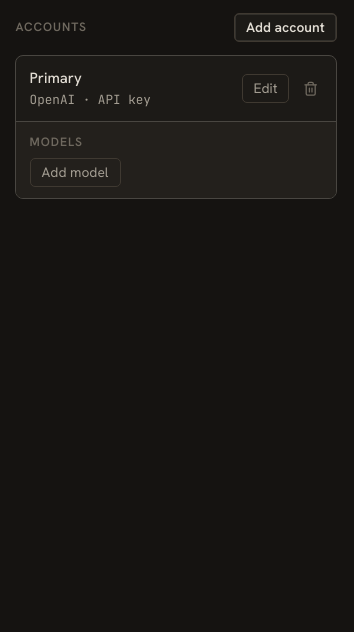
Scenario: Global Key manager › keeps the draft after a second conflict without another retry (F0395)
The image size is (354, 632).
Click the button with aria-label "Edit Primary" at point(265, 89), box [242, 74, 289, 103]
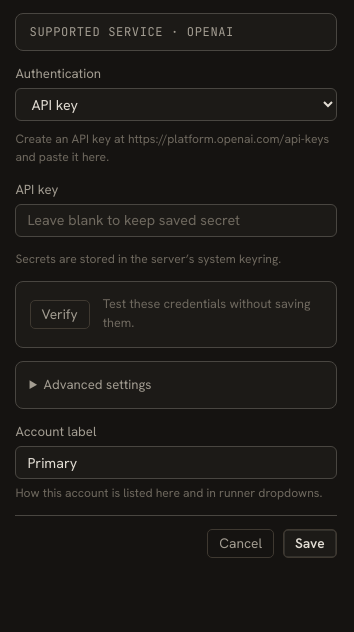
Replace the text in the field labelled "Account label" with "Edited" at point(176, 463), box [15, 446, 337, 479]
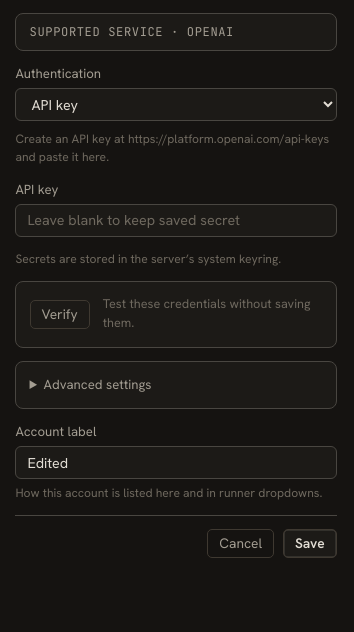
Click the button "Save" at point(310, 544), box [283, 529, 337, 558]
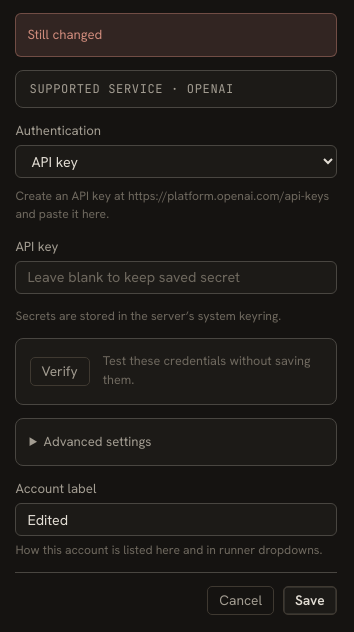
Expected: the text "Still changed" is shown, [15, 13, 337, 57]
